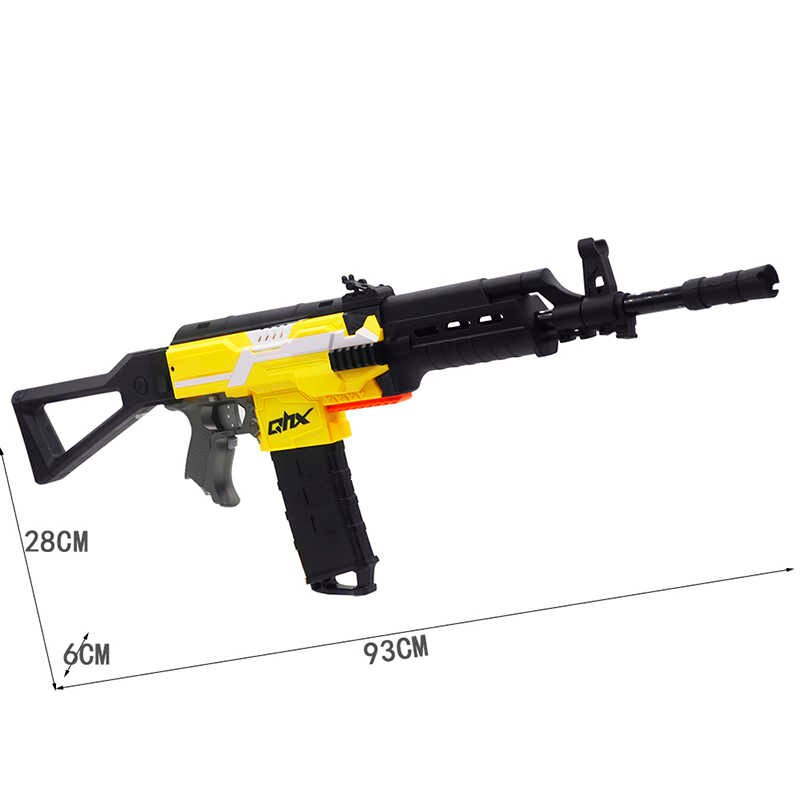Arma Falsa: (12, 240, 781, 568)
